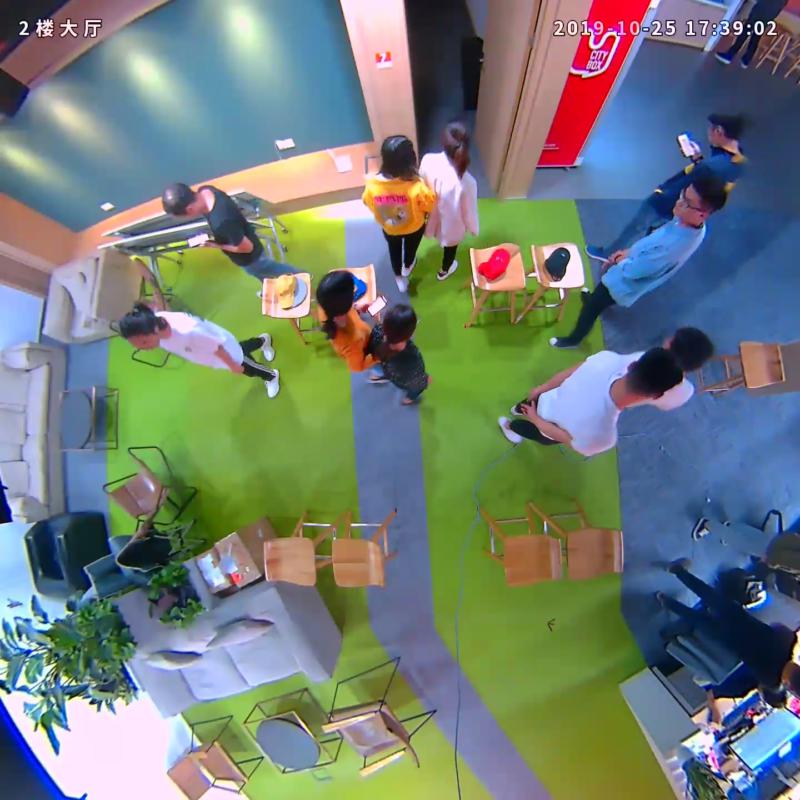head: (624, 347, 683, 405), (672, 177, 726, 221), (665, 325, 713, 373), (119, 301, 161, 350), (316, 269, 355, 315), (160, 182, 200, 220), (380, 133, 416, 175), (707, 107, 743, 148), (381, 305, 418, 339), (441, 117, 470, 155)
